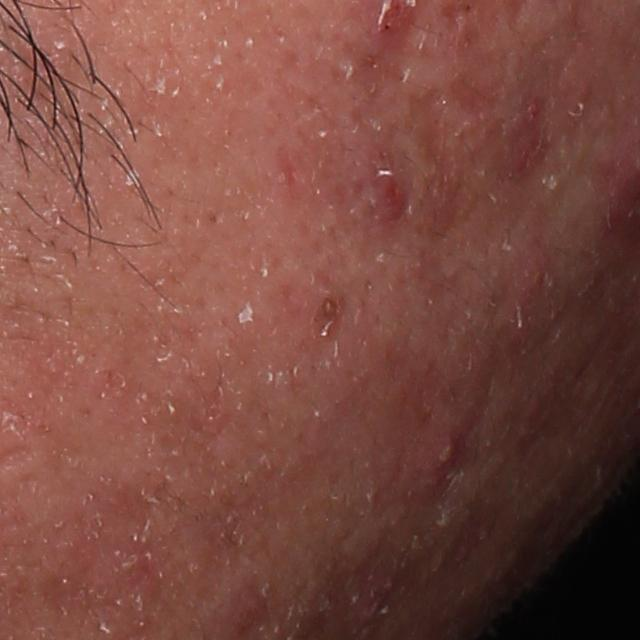atrophic_scar: (405, 89, 463, 246)
papule: (228, 580, 275, 632), (363, 170, 406, 224)
